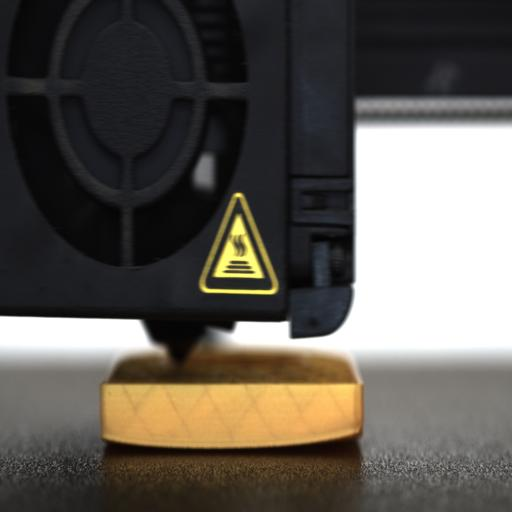warp: (296, 415, 368, 451), (90, 423, 157, 457)
